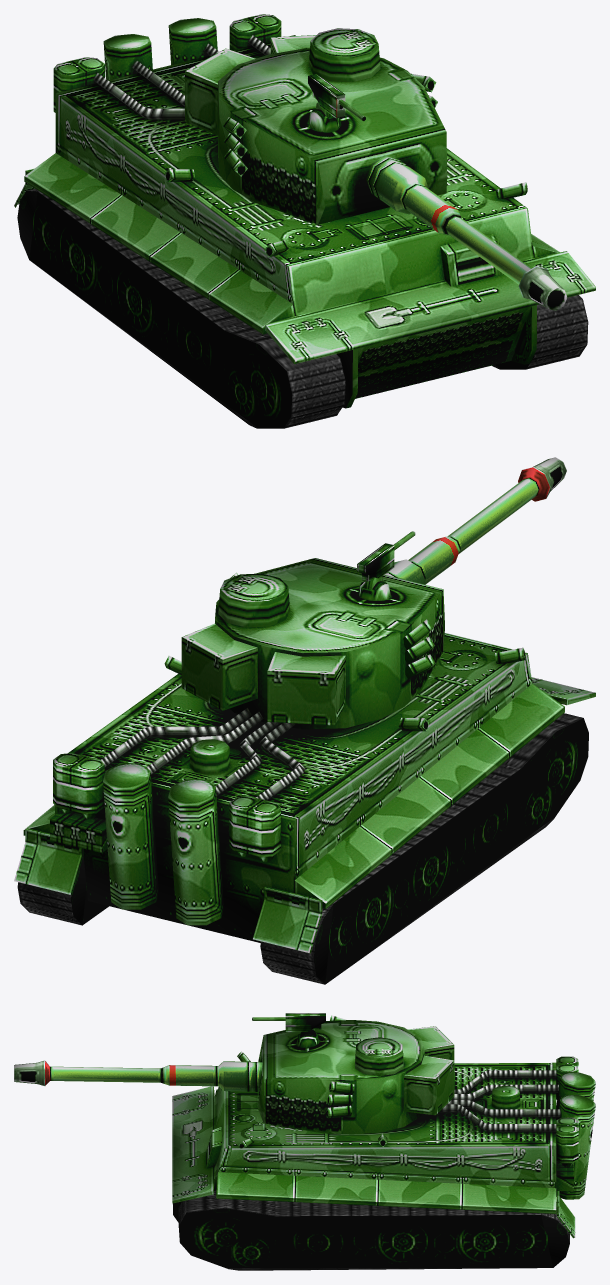
The model's file is pl_tank.fbx.
3 renders of one model, top to bottom at view 1: azimuth 30°, elevation 25°; view 2: azimuth 150°, elevation 25°; view 3: azimuth 270°, elevation 25°, orthographic. The views are drawn at different scales.
Parts seen in each view (by area): view 1: tank, tank_turret; view 2: tank, tank_turret; view 3: tank, tank_turret.
Boxes of the visible parts, <box> form: tank: <box>14,14,595,428</box>; tank_turret: <box>185,28,567,310</box>; tank: <box>14,633,595,984</box>; tank_turret: <box>181,457,566,729</box>; tank: <box>172,1051,595,1270</box>; tank_turret: <box>14,1013,454,1134</box>.
Size of the model in its own units: 297 by 260 by 699.
